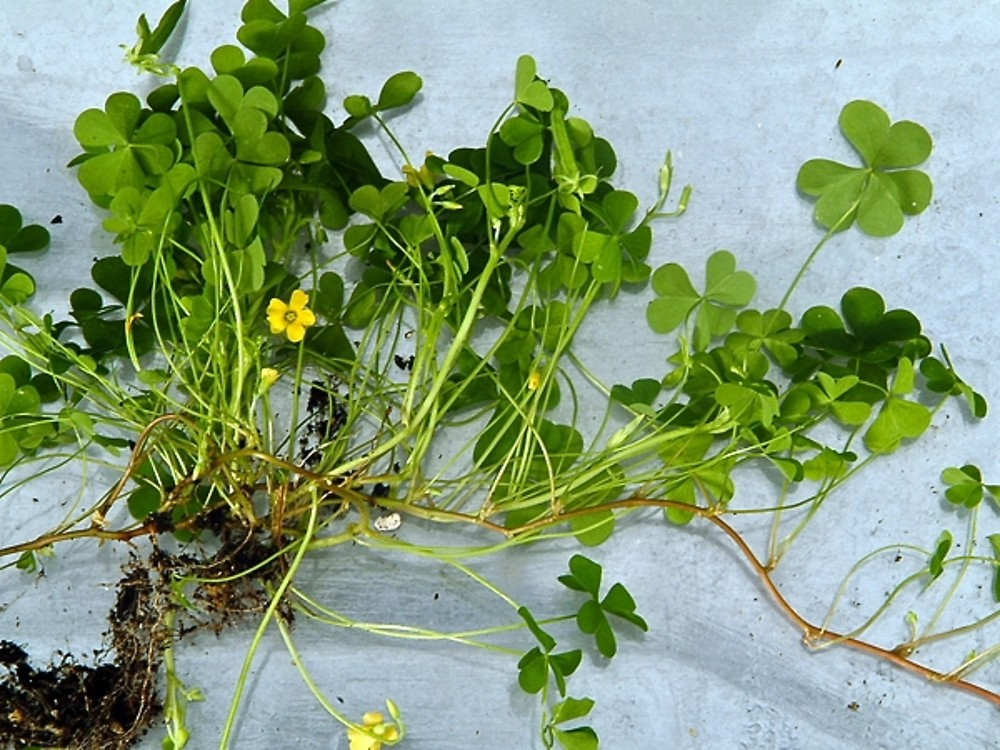oxalis: (682, 69, 963, 469), (92, 52, 371, 313), (419, 85, 659, 337), (498, 572, 677, 750)
